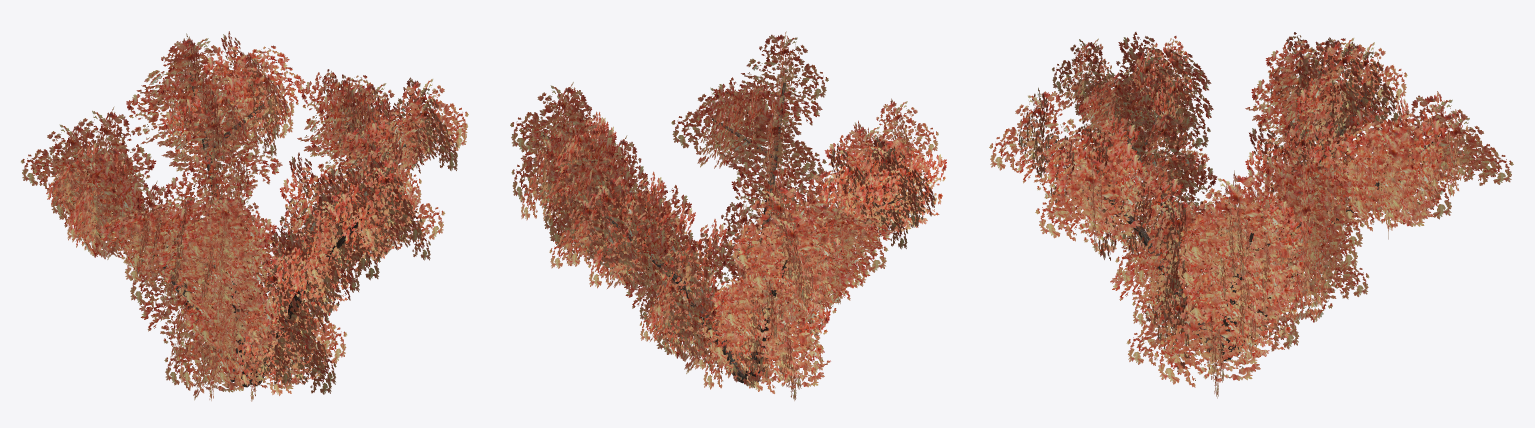
File: bush_3d_01_copper_lod0.glb
3 views of the same model, side by side, from view 1: azimuth 30°, elevation 25°; view 2: azimuth 150°, elevation 25°; view 3: azimuth 270°, elevation 25° (orthographic). The views are drawn at different scales.
Visible parts, largest first — view 1: foliage_cards, wood_geometry; view 2: foliage_cards, wood_geometry; view 3: foliage_cards, wood_geometry.
Part boxes in pixels (x1=…): foliage_cards: x1=21, y1=31, x2=468, y2=401; wood_geometry: x1=91, y1=72, x2=428, y2=387; foliage_cards: x1=510, y1=31, x2=946, y2=400; wood_geometry: x1=541, y1=82, x2=894, y2=383; foliage_cards: x1=989, y1=32, x2=1513, y2=398; wood_geometry: x1=1050, y1=89, x2=1439, y2=361.
Bounding box in the file's own units: 2.02 × 1.29 × 2.12.
Materials: 2 (2 with a texture image).
